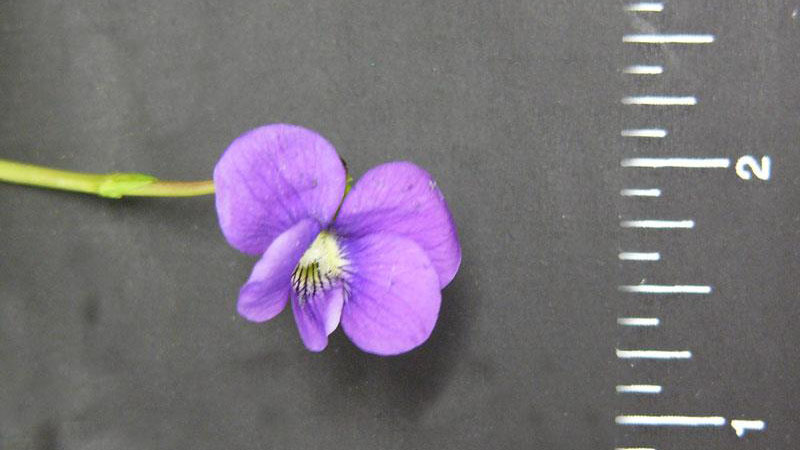violet: (193, 130, 464, 347)
